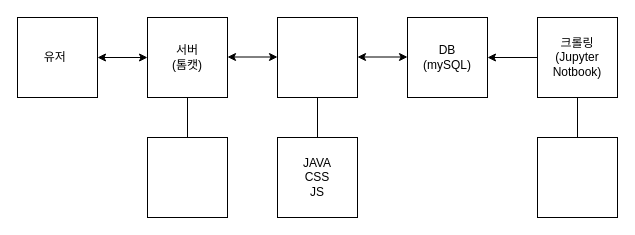
This 635x235 diagram has some shape labels left out. The centre of each missing label's shape, as x and y in pixels:
"JSP Servlet" goes at pixel 187 177.
"기능처리 (eclipse) (VScode)" goes at pixel 317 57.
"파이썬" goes at pixel 577 177.
